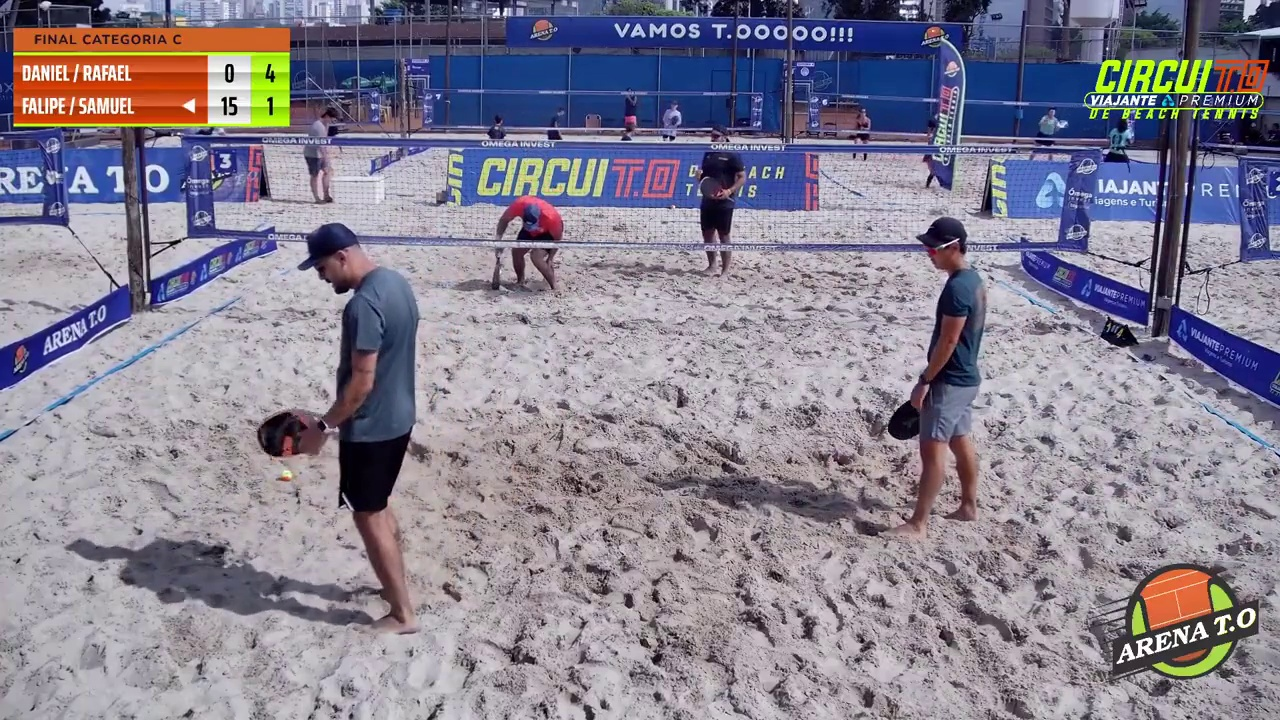court_line: (646, 0, 792, 515), (552, 0, 680, 427)
